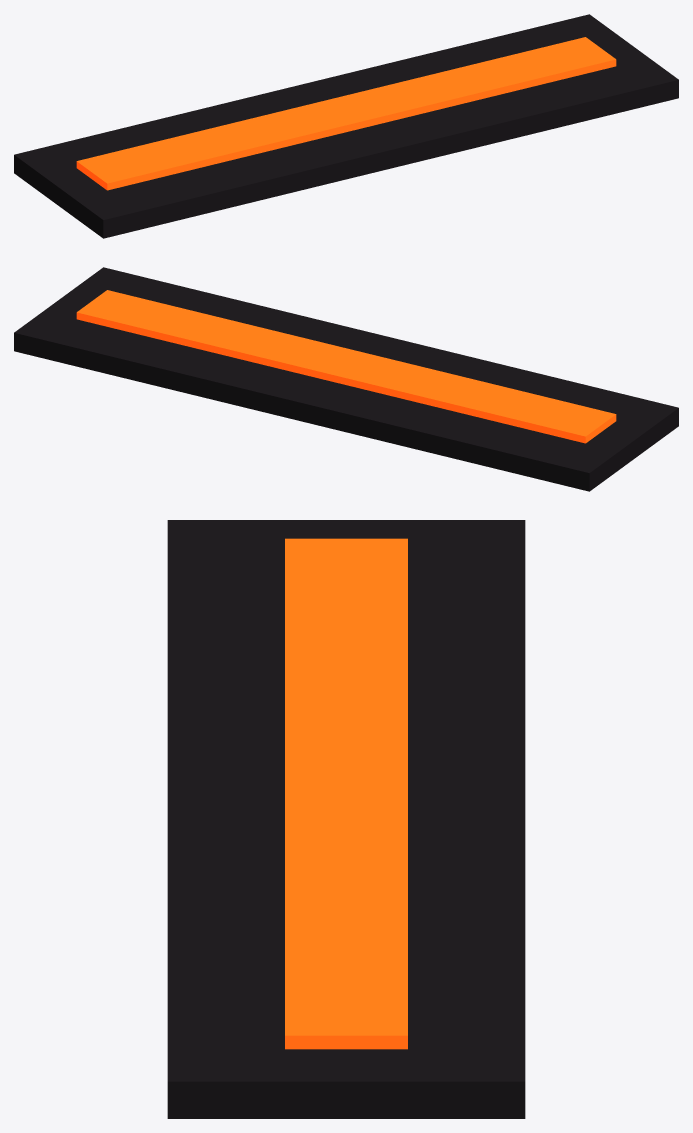
File: lava_fissure_prop.glb
The picture shows the model from 3 angles, top to bottom: view 1: azimuth 30°, elevation 25°; view 2: azimuth 150°, elevation 25°; view 3: azimuth 270°, elevation 25°; orthographic projection. The views are drawn at different scales.
Bounding box in the file's own units: 2.6 × 0.11 × 0.7.
